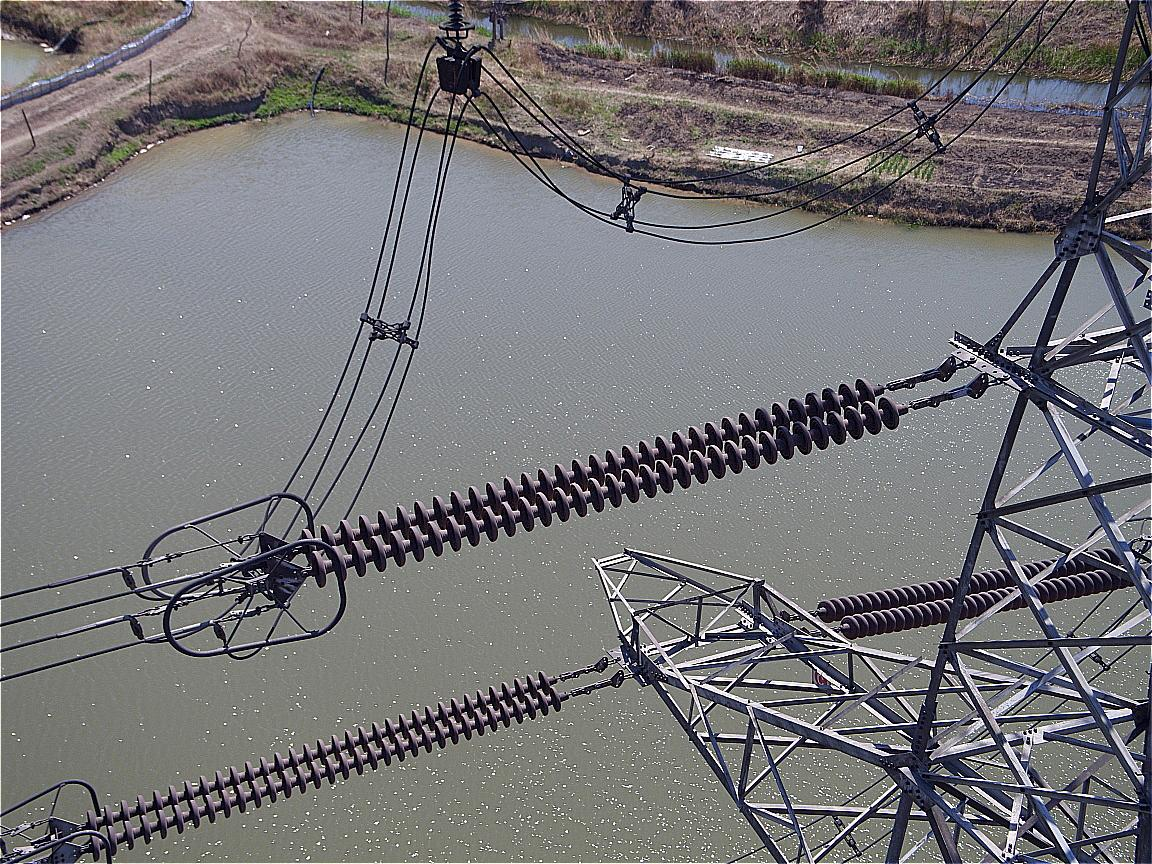insultor1: (301, 374, 901, 592), (86, 669, 565, 861), (817, 547, 1141, 640)
